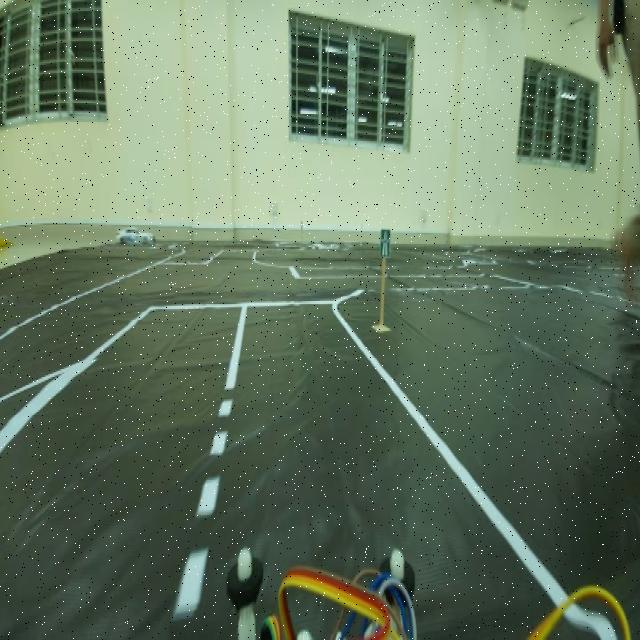highway_entry: (378, 221, 392, 264)
